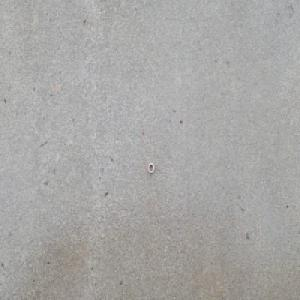Nut: (147, 161, 155, 174)
